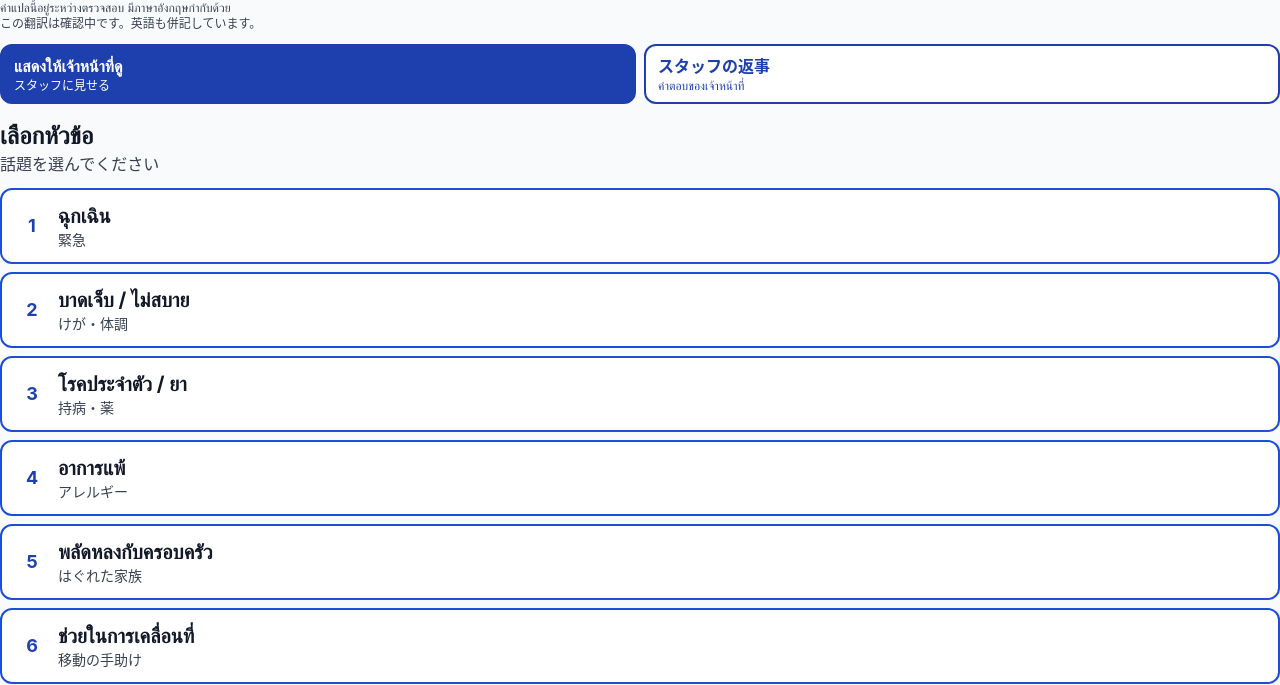
Scenario: ConversationCards: 読み上げ › その言語の音声が無ければボタンを出さない（スタッフの返事をタイ語で読む音声が無い）
Click the button with test id "conv-mode-staff" at [714, 66], box left=644, top=44, right=1279, bottom=104
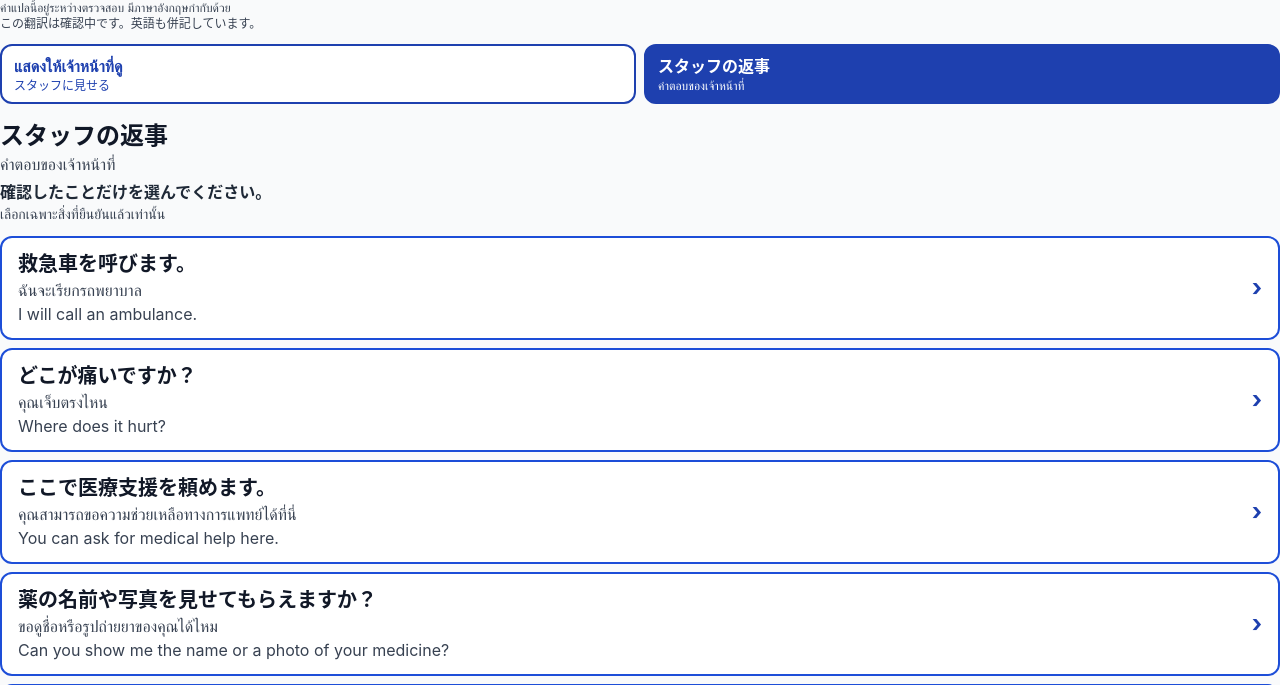
Click the button "どこが痛いですか？ คุณเจ็บตรงไหน Where does it hurt? ›" at [107, 376], box left=0, top=348, right=1279, bottom=452
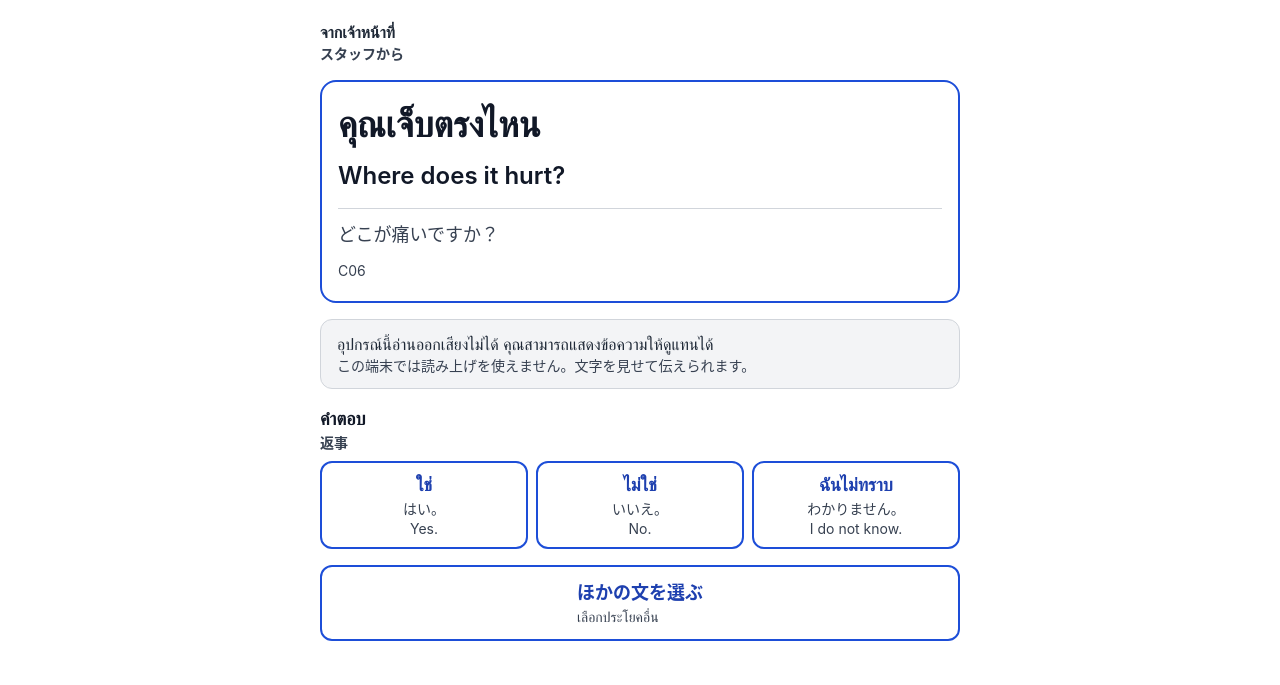
Check: the element with test id "conv-no-voice" is shown, box left=320, top=319, right=960, bottom=389
